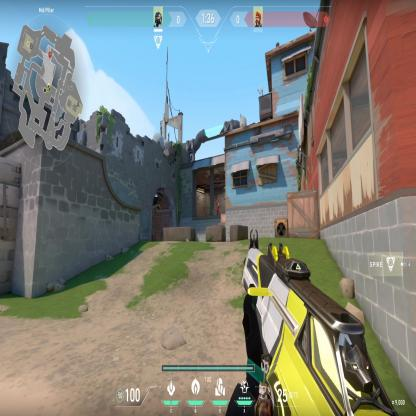enemy: (216, 198, 220, 216)
